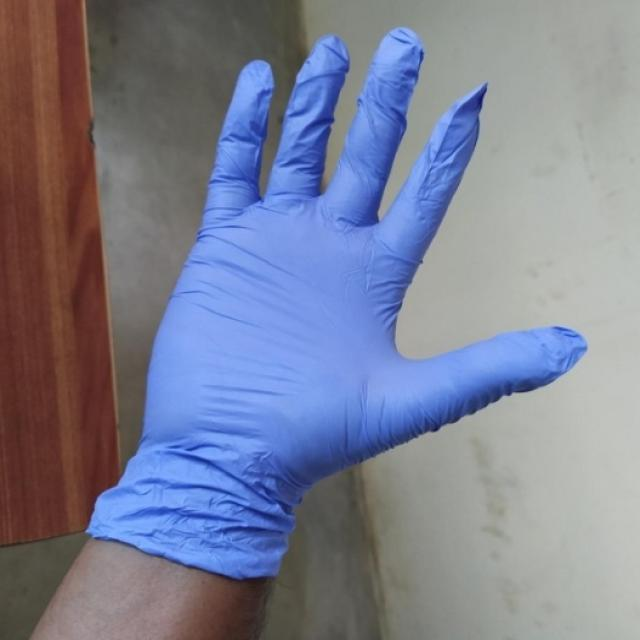gloved_hand: (77, 23, 593, 583)
